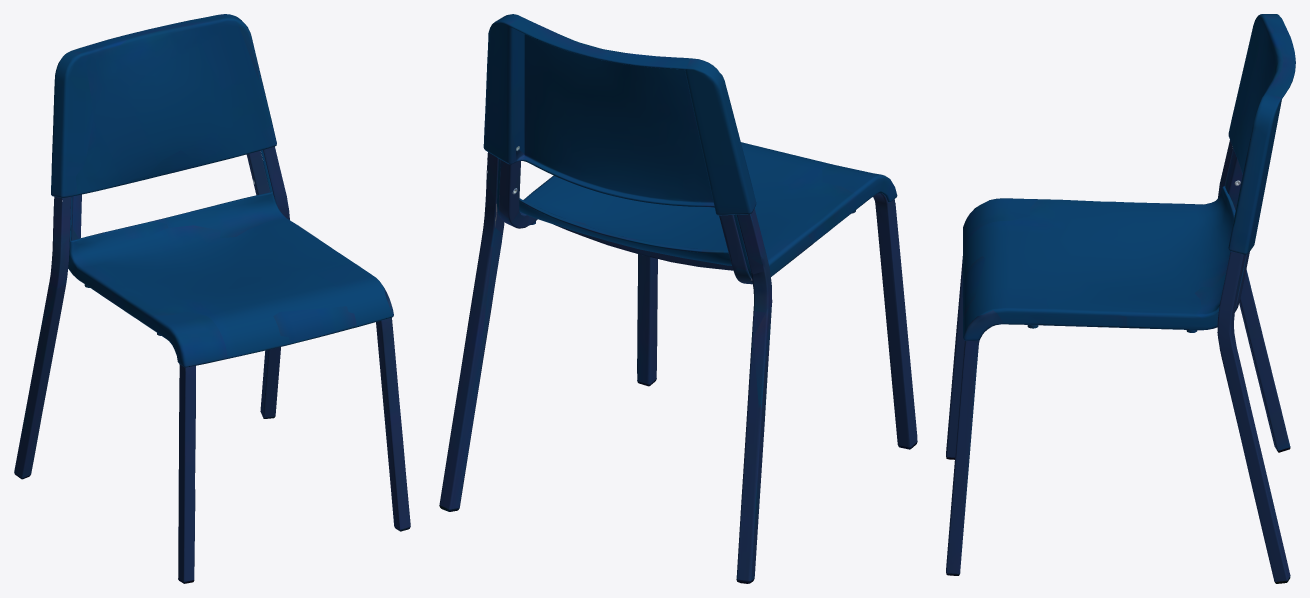
The model's file is 14 - TEODORES - 餐椅, 藍色 IKEA 線上購物.glb.
The picture shows the model from 3 angles, left to right: view 1: azimuth 30°, elevation 25°; view 2: azimuth 150°, elevation 25°; view 3: azimuth 270°, elevation 25°; orthographic projection. The views are drawn at different scales.
Parts seen in each view (by area): view 1: model; view 2: model; view 3: model.
Boxes of the visible parts, left/top/right/bottom form: model: left=14, top=14, right=410, bottom=583; model: left=439, top=14, right=917, bottom=583; model: left=946, top=14, right=1295, bottom=583.
Size of the model in its own units: 0.5177 by 0.7978 by 0.5494.
Materials: 1 (1 with a texture image).
